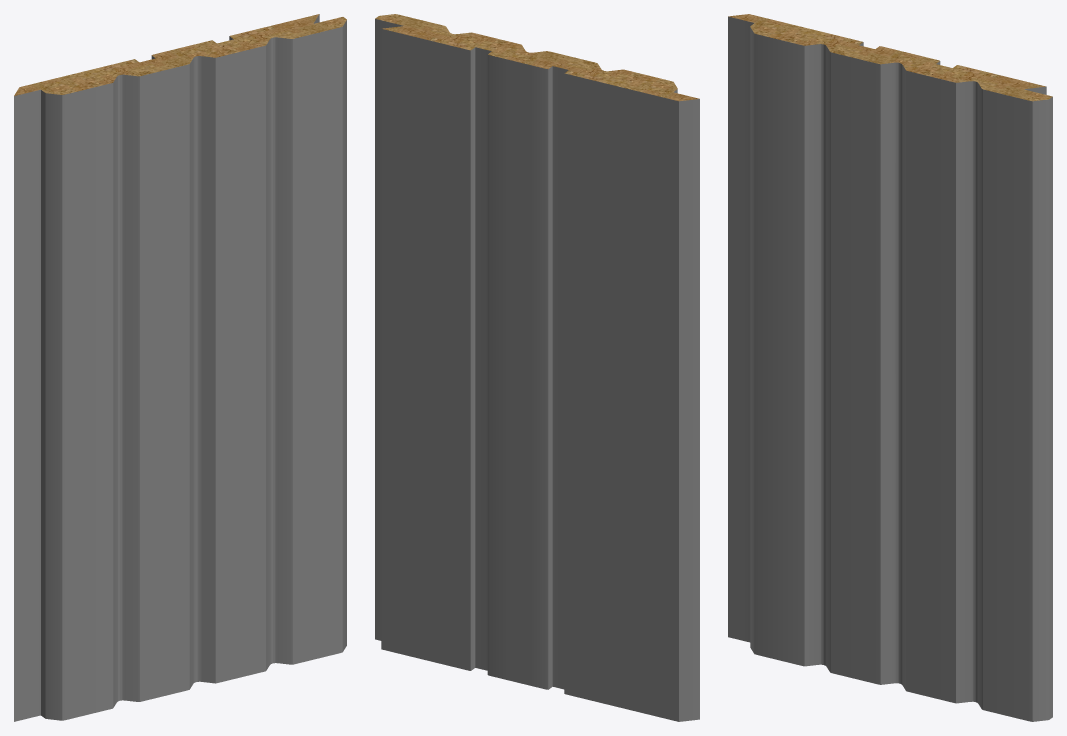
The model's file is diamond.glb.
3 renders of one model, left to right at view 1: azimuth 30°, elevation 25°; view 2: azimuth 150°, elevation 25°; view 3: azimuth 330°, elevation 25°, orthographic.
Parts seen in each view (by area): view 1: root; view 2: root; view 3: root.
Part boxes in pixels (bbox=[...]): root: bbox=[14, 14, 346, 721]; root: bbox=[375, 14, 699, 721]; root: bbox=[728, 14, 1052, 721].
Size of the model in its own units: 0.1199 by 0.2183 by 0.012.
2 materials, 1 textured.
